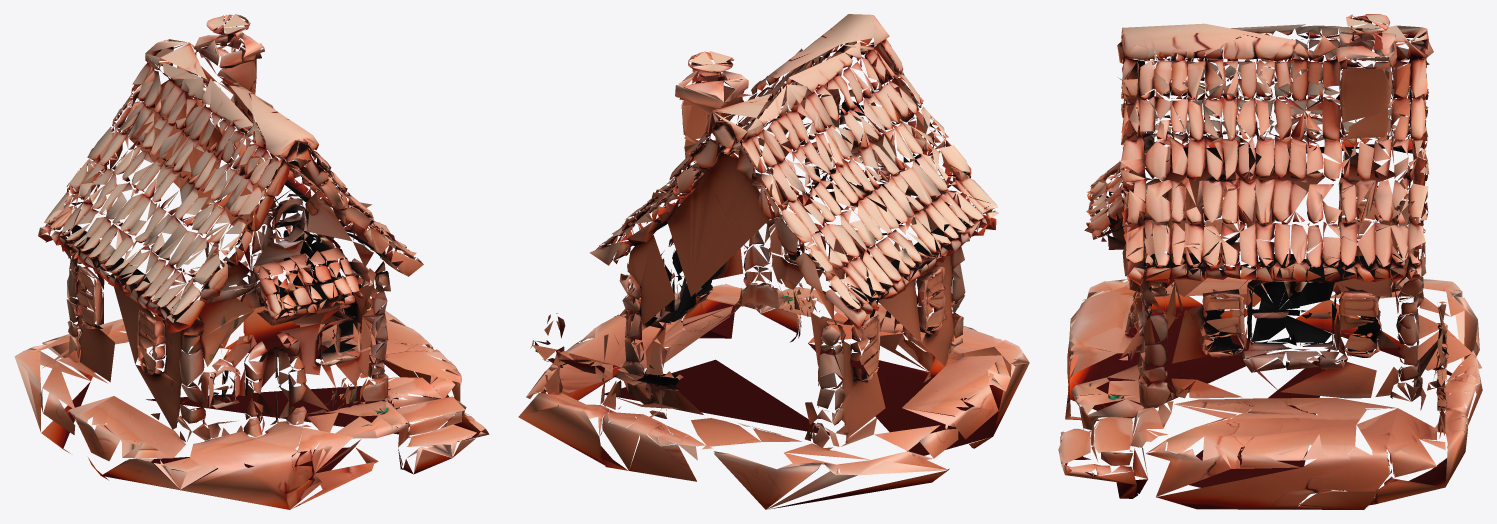
Rendered from terracotta_house.glb.
3 views of the same model, side by side, from view 1: azimuth 30°, elevation 25°; view 2: azimuth 150°, elevation 25°; view 3: azimuth 270°, elevation 25° (orthographic). The views are drawn at different scales.
Visible parts, largest first — view 1: model; view 2: model; view 3: model.
Boxes of the visible parts, x1,y1,x2,y2 form: model: [14, 14, 489, 509]; model: [518, 14, 1029, 509]; model: [1058, 14, 1482, 509].
Bounding box in the file's own units: 0.6022 × 0.5991 × 0.5517.
Materials: 1 (1 with a texture image).
